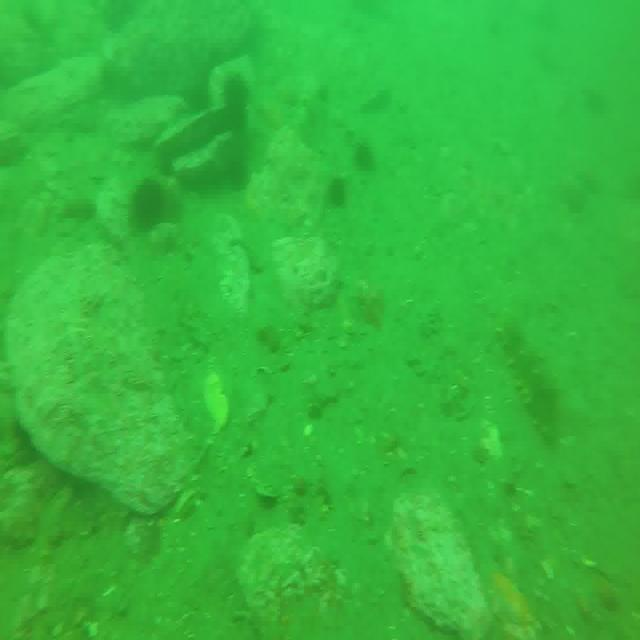echinus: (136, 178, 172, 237), (224, 72, 250, 122), (327, 177, 348, 210), (228, 156, 250, 186), (355, 142, 373, 170)
holothurian: (502, 319, 557, 443)
